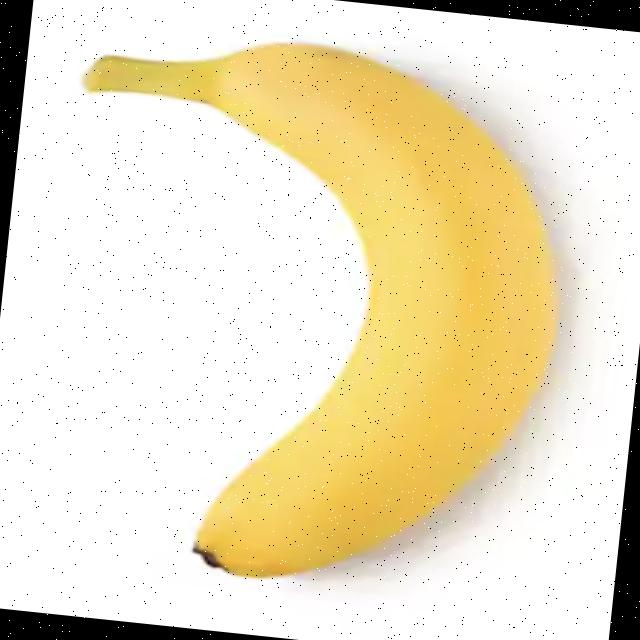Ripe: (28, 18, 586, 612)
